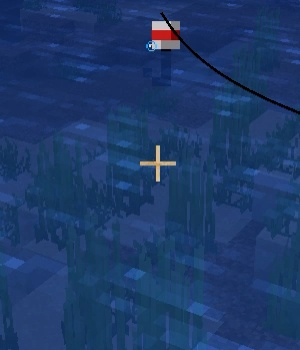up: (136, 23, 190, 86)
